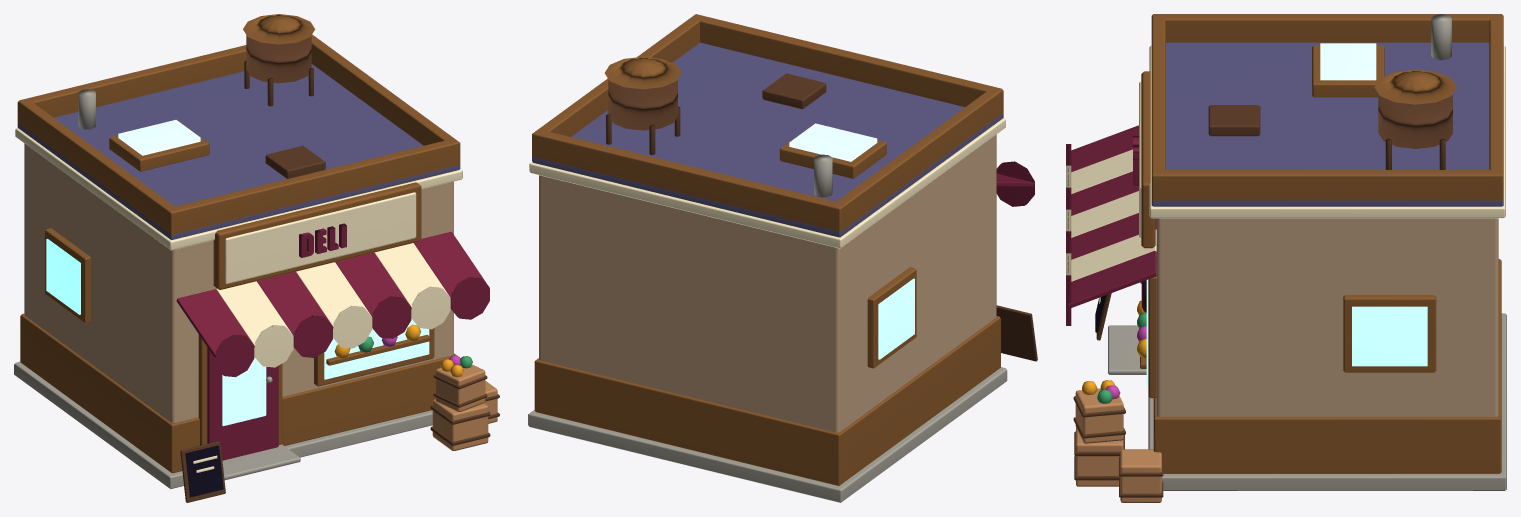
The model's file is deli.glb.
3 views of the same model, side by side, from view 1: azimuth 30°, elevation 25°; view 2: azimuth 150°, elevation 25°; view 3: azimuth 270°, elevation 25° (orthographic). The views are drawn at different scales.
Visible parts, largest first — view 1: Deli.001; view 2: Deli.001; view 3: Deli.001.
Part boxes in pixels (box(x1,y1,x2,y2)): Deli.001: box(14, 14, 499, 502); Deli.001: box(528, 14, 1037, 502); Deli.001: box(1066, 14, 1506, 502).
Size of the model in its own units: 4.12 by 4.02 by 4.26.
